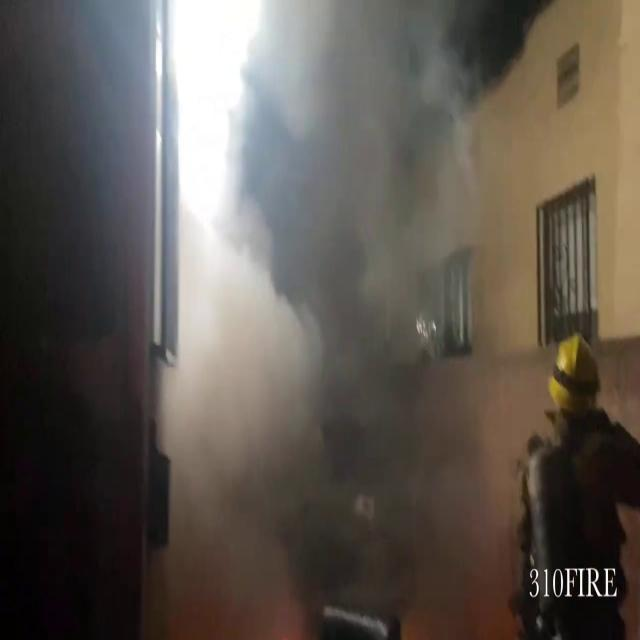Smoke: (158, 0, 538, 630)
